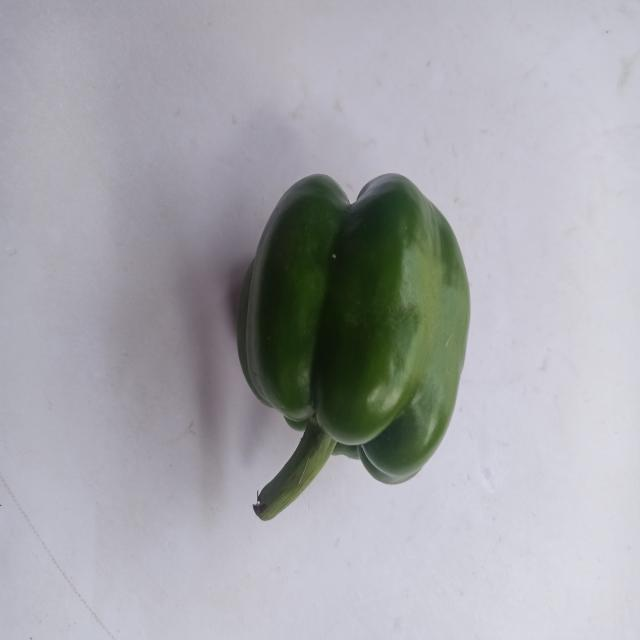Capsicum: (220, 144, 480, 536)
